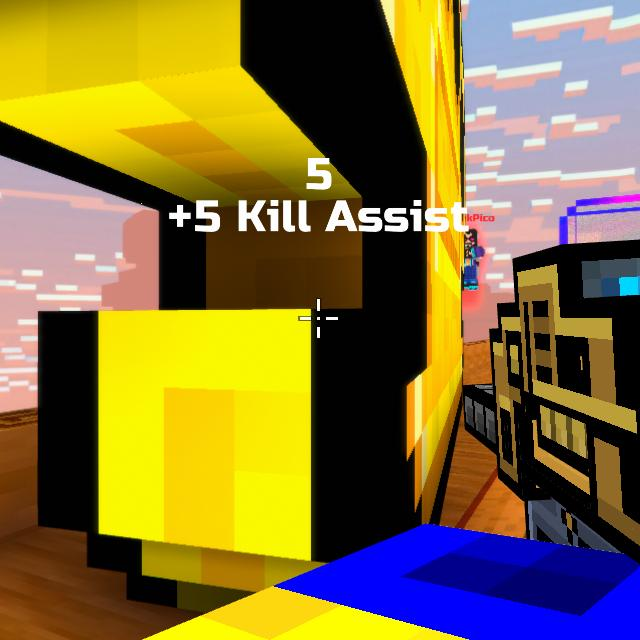Enemy: (461, 228, 485, 291)
